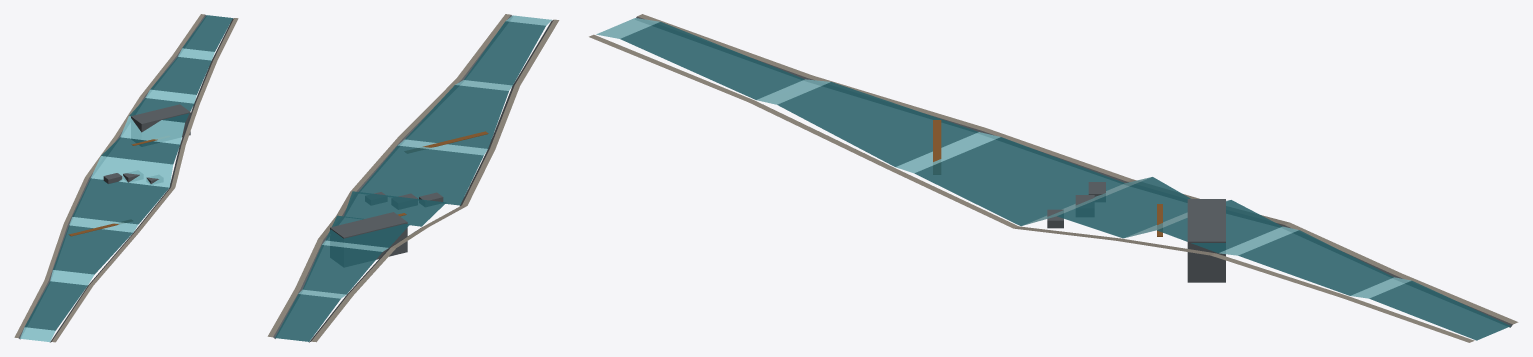
The model's file is water_thac_voi_lam_ha.glb.
3 renders of one model, left to right at view 1: azimuth 30°, elevation 25°; view 2: azimuth 210°, elevation 25°; view 3: azimuth 270°, elevation 25°, orthographic. The views are drawn at different scales.
Parts seen in each view (by area): view 1: water_terraces_water_thac_voi_lam_ha, waterfall_curtain_water_thac_voi_lam_ha, canyon_walkway_water_thac_voi_lam_ha, basalt_canyon_embankments_water_thac_voi_lam_ha, thac_voi_main_basalt_cliff_wall; view 2: water_terraces_water_thac_voi_lam_ha, canyon_walkway_water_thac_voi_lam_ha, waterfall_curtain_water_thac_voi_lam_ha, thac_voi_main_basalt_cliff_wall, basalt_canyon_embankments_water_thac_voi_lam_ha, thac_voi_canyon_observation_bridge; view 3: water_terraces_water_thac_voi_lam_ha, canyon_walkway_water_thac_voi_lam_ha, waterfall_curtain_water_thac_voi_lam_ha, thac_voi_main_basalt_cliff_wall, basalt_canyon_embankments_water_thac_voi_lam_ha.
Part boxes in pixels (x1,y1,x2,y2): water_terraces_water_thac_voi_lam_ha: (24,15,232,330); waterfall_curtain_water_thac_voi_lam_ha: (20,48,214,341); canyon_walkway_water_thac_voi_lam_ha: (14,14,238,342); basalt_canyon_embankments_water_thac_voi_lam_ha: (19,14,233,342); thac_voi_main_basalt_cliff_wall: (131,104,190,137); water_terraces_water_thac_voi_lam_ha: (275,21,545,341); canyon_walkway_water_thac_voi_lam_ha: (267,14,559,342); waterfall_curtain_water_thac_voi_lam_ha: (298,15,551,298); thac_voi_main_basalt_cliff_wall: (330,212,407,259); basalt_canyon_embankments_water_thac_voi_lam_ha: (273,15,553,342); thac_voi_canyon_observation_bridge: (423,131,488,147); water_terraces_water_thac_voi_lam_ha: (620,22,1510,340); canyon_walkway_water_thac_voi_lam_ha: (589,14,1518,342); waterfall_curtain_water_thac_voi_lam_ha: (596,18,1411,298); thac_voi_main_basalt_cliff_wall: (1187,199,1225,282); basalt_canyon_embankments_water_thac_voi_lam_ha: (636,16,1512,327).
Bounding box in the file's own units: 540 × 44.45 × 535.
